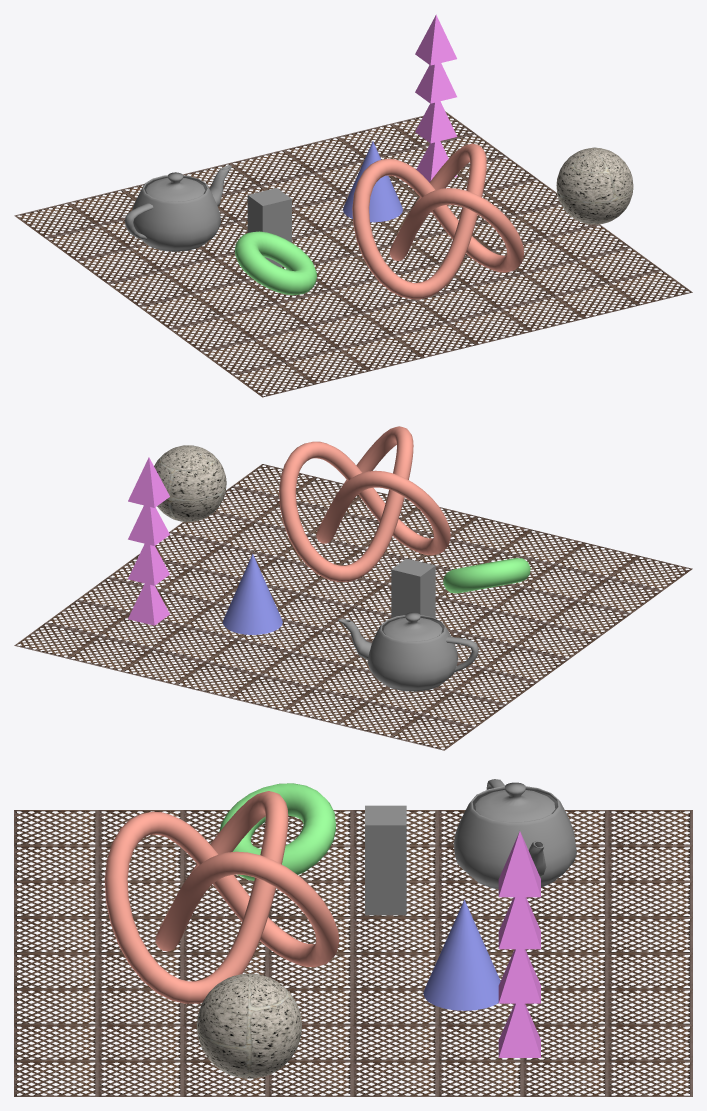
The picture shows the model from 3 angles, top to bottom: view 1: azimuth 30°, elevation 25°; view 2: azimuth 150°, elevation 25°; view 3: azimuth 270°, elevation 25°; orthographic projection. The views are drawn at different scales.
Visible parts, largest first — view 1: Plane001, Torus Knot001, Teapot001, Sphere001, Torus001, Box001, Cone001, Pyramid004, Pyramid002, Pyramid003, Pyramid001; view 2: Plane001, Torus Knot001, Teapot001, Sphere001, Cone001, Box001, Torus001, Pyramid004, Pyramid001, Pyramid002, Pyramid003; view 3: Plane001, Torus Knot001, Teapot001, Sphere001, Cone001, Box001, Torus001, Pyramid004, Pyramid002, Pyramid003, Pyramid001.
Part boxes in pixels (left/top/right/bottom): Plane001: left=14, top=111, right=692, bottom=397; Torus Knot001: left=352, top=143, right=523, bottom=299; Teapot001: left=124, top=165, right=231, bottom=251; Sphere001: left=556, top=147, right=633, bottom=224; Torus001: left=235, top=231, right=316, bottom=295; Box001: left=247, top=188, right=291, bottom=267; Cone001: left=343, top=141, right=402, bottom=222; Pyramid004: left=415, top=14, right=456, bottom=65; Pyramid002: left=415, top=101, right=457, bottom=143; Pyramid003: left=415, top=63, right=456, bottom=103; Pyramid001: left=416, top=141, right=457, bottom=182; Plane001: left=14, top=464, right=692, bottom=750; Torus Knot001: left=279, top=426, right=450, bottom=581; Teapot001: left=338, top=612, right=478, bottom=691; Sphere001: left=154, top=445, right=226, bottom=522; Cone001: left=222, top=553, right=282, bottom=634; Box001: left=391, top=558, right=435, bottom=618; Torus001: left=443, top=558, right=530, bottom=593; Pyramid004: left=128, top=457, right=169, bottom=507; Pyramid001: left=128, top=583, right=169, bottom=625; Pyramid002: left=128, top=544, right=169, bottom=585; Pyramid003: left=128, top=505, right=169, bottom=545; Plane001: left=14, top=810, right=692, bottom=1096; Torus Knot001: left=104, top=791, right=339, bottom=1003; Teapot001: left=453, top=779, right=576, bottom=889; Sphere001: left=196, top=973, right=301, bottom=1078; Cone001: left=423, top=899, right=500, bottom=1010; Box001: left=365, top=805, right=406, bottom=915; Torus001: left=219, top=783, right=335, bottom=880; Pyramid004: left=498, top=831, right=540, bottom=897; Pyramid002: left=498, top=949, right=540, bottom=1003; Pyramid003: left=498, top=897, right=540, bottom=949; Pyramid001: left=498, top=1003, right=540, bottom=1057.
Size of the model in its own units: 269 by 90.92 by 256.
